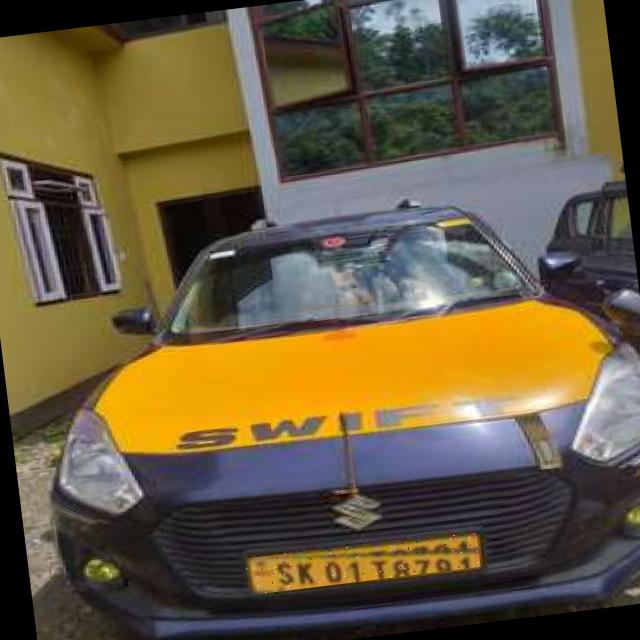Plate: (246, 531, 482, 596)
